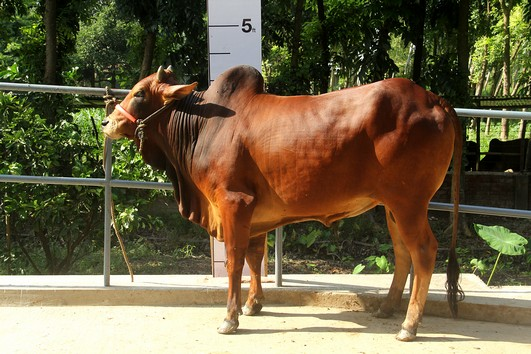cow: (99, 54, 465, 343)
